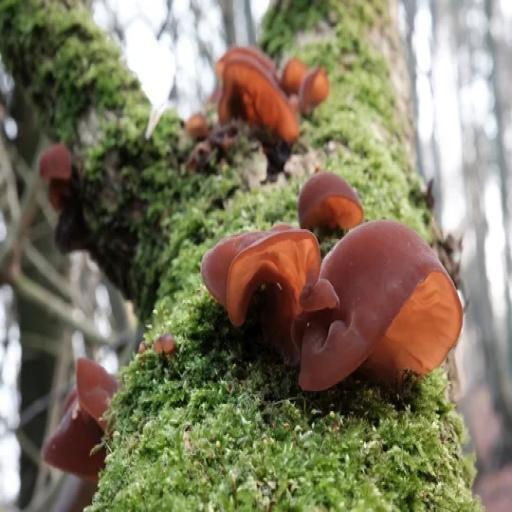mushroom: (299, 214, 474, 398), (192, 220, 340, 334), (211, 44, 335, 146), (44, 355, 117, 482), (295, 173, 365, 236)
